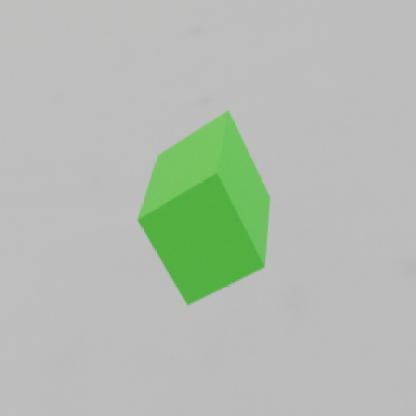cube: (136, 108, 270, 305)
